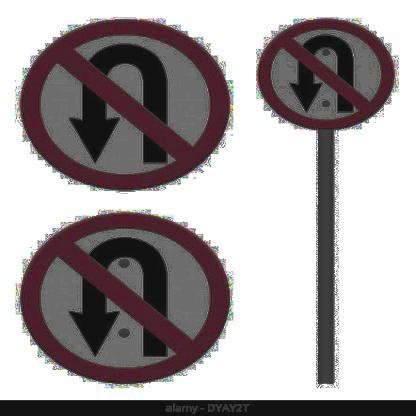No U-turn: (27, 12, 238, 192), (18, 203, 228, 382), (250, 12, 403, 130)
